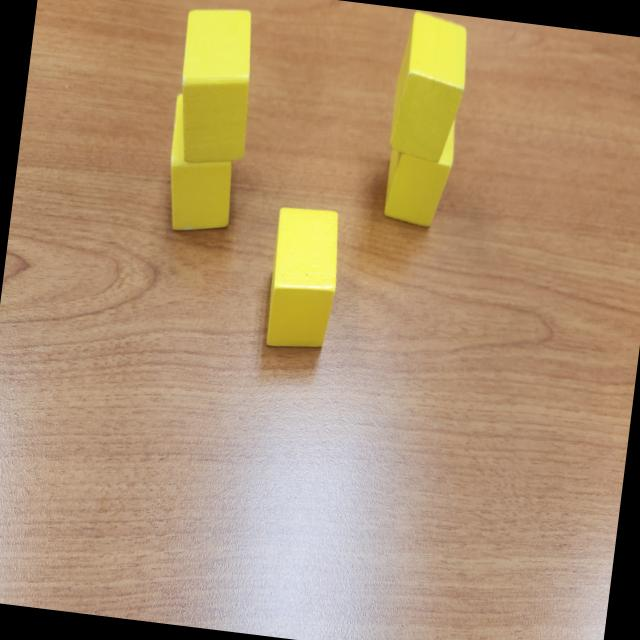yellow: (166, 2, 264, 170), (385, 11, 473, 166), (160, 90, 246, 237), (262, 204, 344, 352), (382, 106, 458, 230)
